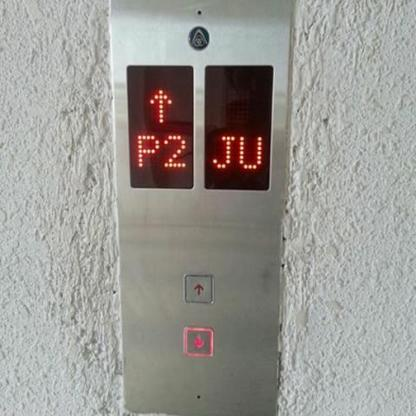down: (182, 325, 214, 357)
led: (201, 61, 275, 192), (123, 61, 196, 192)
unknown: (186, 24, 210, 50)
up: (181, 273, 214, 304)
